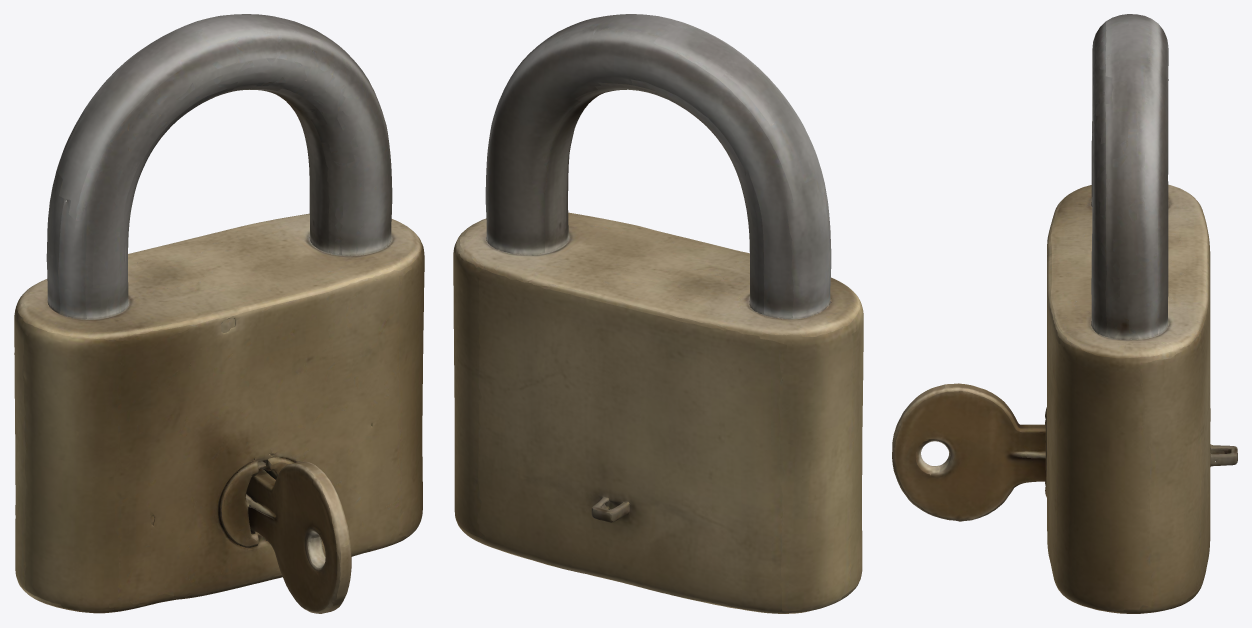
Rendered from parts.glb.
3 views of the same model, side by side, from view 1: azimuth 30°, elevation 25°; view 2: azimuth 150°, elevation 25°; view 3: azimuth 270°, elevation 25° (orthographic). The views are drawn at different scales.
Size of the model in its own units: 0.0497 by 0.065 by 0.0406.
3 materials, 3 textured.
